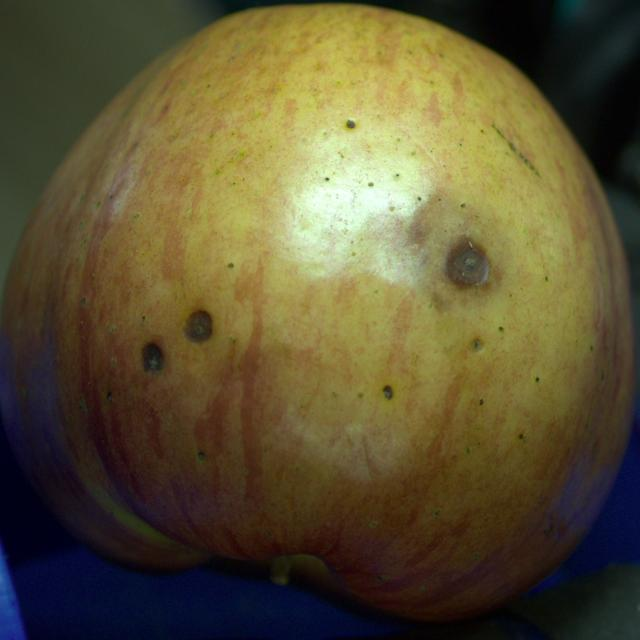apple: (0, 4, 633, 621)
pest: (448, 245, 489, 285), (184, 310, 212, 342), (142, 342, 162, 374), (383, 385, 393, 399), (473, 339, 483, 351), (198, 452, 205, 461), (347, 120, 354, 128)
scratch: (492, 125, 538, 174)
